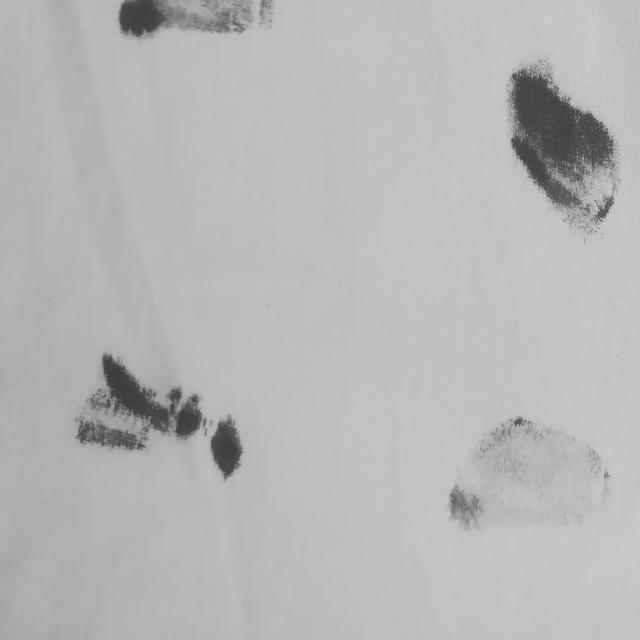Thread_other: (474, 34, 640, 254), (36, 341, 274, 494), (408, 392, 636, 548), (110, 0, 290, 54)
